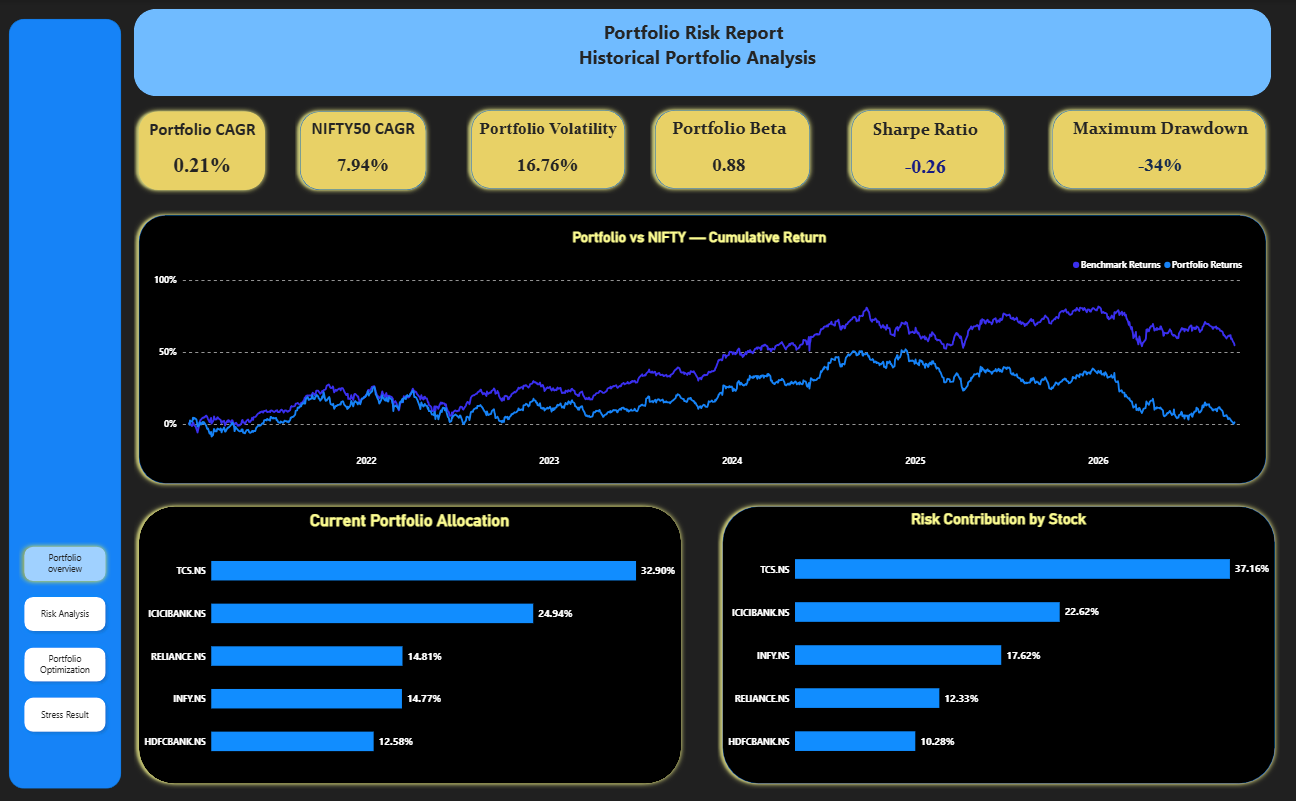

The dashboard page shown, as its layout file describes it:
{"tool":"powerbi","page":{"name":"Portfolio overview","canvas":[2096,1300],"ordinal":0},"visuals":[{"type":"shape","box":[14.1,30.2,181.5,1241.9],"z":0},{"type":"shape","box":[215.7,171.4,219.8,143.1],"z":1000},{"type":"shape","box":[215.7,14.1,1834.7,141.1],"z":2000},{"type":"cardVisual","fields":{"Data":["public portfolio1.Dashboard Title"]},"box":[957.4,6.1,448.9,91.6],"z":3000},{"type":"cardVisual","fields":{"Data":["public portfolio1.Portfolio Overview"]},"box":[916.6,51,516.7,80.6],"z":4000},{"type":"shape","box":[475.8,171.4,219.8,143.1],"z":5000},{"type":"cardVisual","title":"Portfolio CAGR","fields":{"Data":["Sum(public portfolio_summary.portfolio_cagr)"]},"box":[231.9,191.5,189.5,100.8],"z":6000},{"type":"cardVisual","title":"NIFTY50 CAGR","fields":{"Data":["Sum(public portfolio_summary.benchmark_cagr)"]},"box":[475.7,189.9,220.5,102.1],"z":7000},{"type":"shape","box":[752,169.4,264.1,143.1],"z":8000},{"type":"cardVisual","title":"Portfolio Volatility","fields":{"Data":["Sum(public portfolio_summary.portfolio_volatility)"]},"box":[768.1,191.5,231.9,102.8],"z":9000},{"type":"shape","box":[1048.4,169.4,266.1,143.1],"z":10000},{"type":"cardVisual","title":"Portfolio Beta","fields":{"Data":["Sum(public portfolio_summary.portfolio_beta)"]},"box":[1064.5,189.5,223.8,102.8],"z":11000},{"type":"shape","box":[1364.9,169.4,264.1,143.1],"z":12000},{"type":"cardVisual","title":"Sharpe Ratio","fields":{"Data":["Sum(public portfolio_summary.sharpe_ratio)"]},"box":[1364.9,191.5,256,102.8],"z":13000},{"type":"shape","box":[1689.5,169.4,360.9,143.1],"z":14000},{"type":"cardVisual","title":"Maximum Drawdown","fields":{"Data":["Sum(public portfolio_summary.maximum_drawdown)"]},"box":[1719.8,189.5,304.4,102.8],"z":15000},{"type":"shape","box":[215.7,338.7,1834.7,449.6],"z":16000},{"type":"lineChart","title":"Portfolio vs NIFTY — Cumulative Return","fields":{"Category":["public portfolio_performance.date"],"Y":["Sum(public portfolio_performance.benchmark_cumulative_returns)","Sum(public portfolio_performance.portfolio_cumulative_return)"]},"box":[231.9,354.8,1792.3,419.4],"z":17000},{"type":"shape","box":[1157.3,808.5,907.3,463.7],"z":18000},{"type":"shape","box":[215.7,808.5,891.1,463.7],"z":19000},{"type":"clusteredBarChart","title":"Current Portfolio Allocation","fields":{"Category":["public risk_contribution.ticker"],"Y":["Sum(public risk_contribution.weight)"]},"box":[216.4,808.4,890.1,449.1],"z":20000},{"type":"clusteredBarChart","title":"Risk Contribution by Stock","fields":{"Category":["public risk_contribution.ticker"],"Y":["Sum(public risk_contribution.risk_contributions_percent)"]},"box":[1157.5,808.4,906.4,449.1],"z":21000},{"type":"pageNavigator","box":[30.2,873,149.2,318.5],"z":22000}]}

Visuals, with their boxes in screenshot pixels (x1, y1, x2, y2), scaled from the page's 2096x1300 canvas onto the 1296x801 screenshot:
shape: rect(9, 19, 121, 784)
shape: rect(133, 106, 269, 194)
shape: rect(133, 9, 1268, 96)
cardVisual - public portfolio1.Dashboard Title: rect(592, 4, 870, 60)
cardVisual - public portfolio1.Portfolio Overview: rect(567, 31, 886, 81)
shape: rect(294, 106, 430, 194)
"Portfolio CAGR" cardVisual: rect(143, 118, 261, 180)
"NIFTY50 CAGR" cardVisual: rect(294, 117, 430, 180)
shape: rect(465, 104, 628, 193)
"Portfolio Volatility" cardVisual: rect(475, 118, 618, 181)
shape: rect(648, 104, 813, 193)
"Portfolio Beta" cardVisual: rect(658, 117, 797, 180)
shape: rect(844, 104, 1007, 193)
"Sharpe Ratio" cardVisual: rect(844, 118, 1002, 181)
shape: rect(1045, 104, 1268, 193)
"Maximum Drawdown" cardVisual: rect(1063, 117, 1252, 180)
shape: rect(133, 209, 1268, 486)
"Portfolio vs NIFTY — Cumulative Return" lineChart: rect(143, 219, 1252, 477)
shape: rect(716, 498, 1277, 784)
shape: rect(133, 498, 684, 784)
"Current Portfolio Allocation" clusteredBarChart: rect(134, 498, 684, 775)
"Risk Contribution by Stock" clusteredBarChart: rect(716, 498, 1276, 775)
pageNavigator: rect(19, 538, 111, 734)
